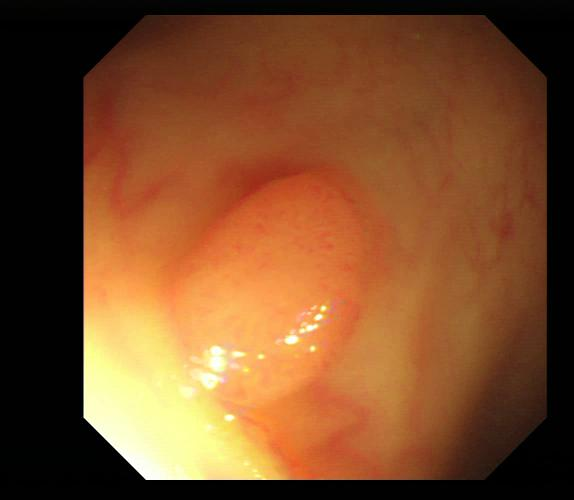polyp: (166, 167, 369, 414)
